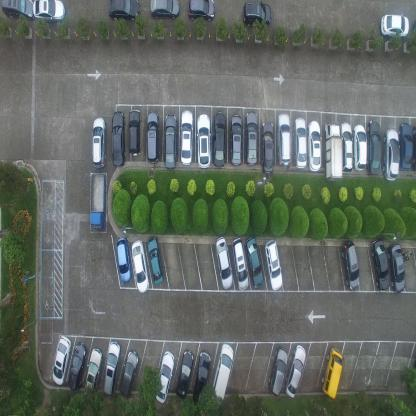car: (211, 341, 234, 402), (284, 342, 306, 398), (320, 346, 343, 398), (192, 349, 212, 407), (323, 119, 342, 180), (155, 347, 175, 402), (83, 346, 103, 400), (118, 347, 140, 396), (245, 232, 264, 287), (214, 235, 233, 290), (52, 333, 72, 385), (231, 234, 249, 291), (267, 345, 287, 396), (103, 339, 121, 394), (263, 237, 282, 289), (131, 238, 149, 292), (68, 339, 87, 390), (371, 235, 389, 288), (175, 346, 194, 396), (90, 172, 106, 231), (382, 126, 399, 181), (340, 239, 359, 287), (386, 242, 404, 291), (111, 109, 126, 167), (33, 0, 66, 26), (163, 112, 178, 169), (242, 1, 272, 29), (366, 116, 380, 176), (276, 110, 291, 166), (196, 112, 211, 168), (147, 235, 164, 284), (92, 115, 107, 168), (180, 108, 194, 164), (1, 0, 35, 23), (351, 122, 367, 170), (380, 11, 408, 38), (307, 118, 321, 171), (213, 110, 226, 167), (116, 235, 131, 284), (293, 116, 307, 168), (108, 0, 141, 22), (146, 109, 159, 164), (398, 120, 412, 169), (128, 107, 142, 156), (245, 110, 257, 166), (340, 118, 352, 173), (149, 0, 181, 20), (230, 114, 242, 166), (187, 0, 215, 22), (262, 119, 273, 175), (412, 122, 416, 172)
